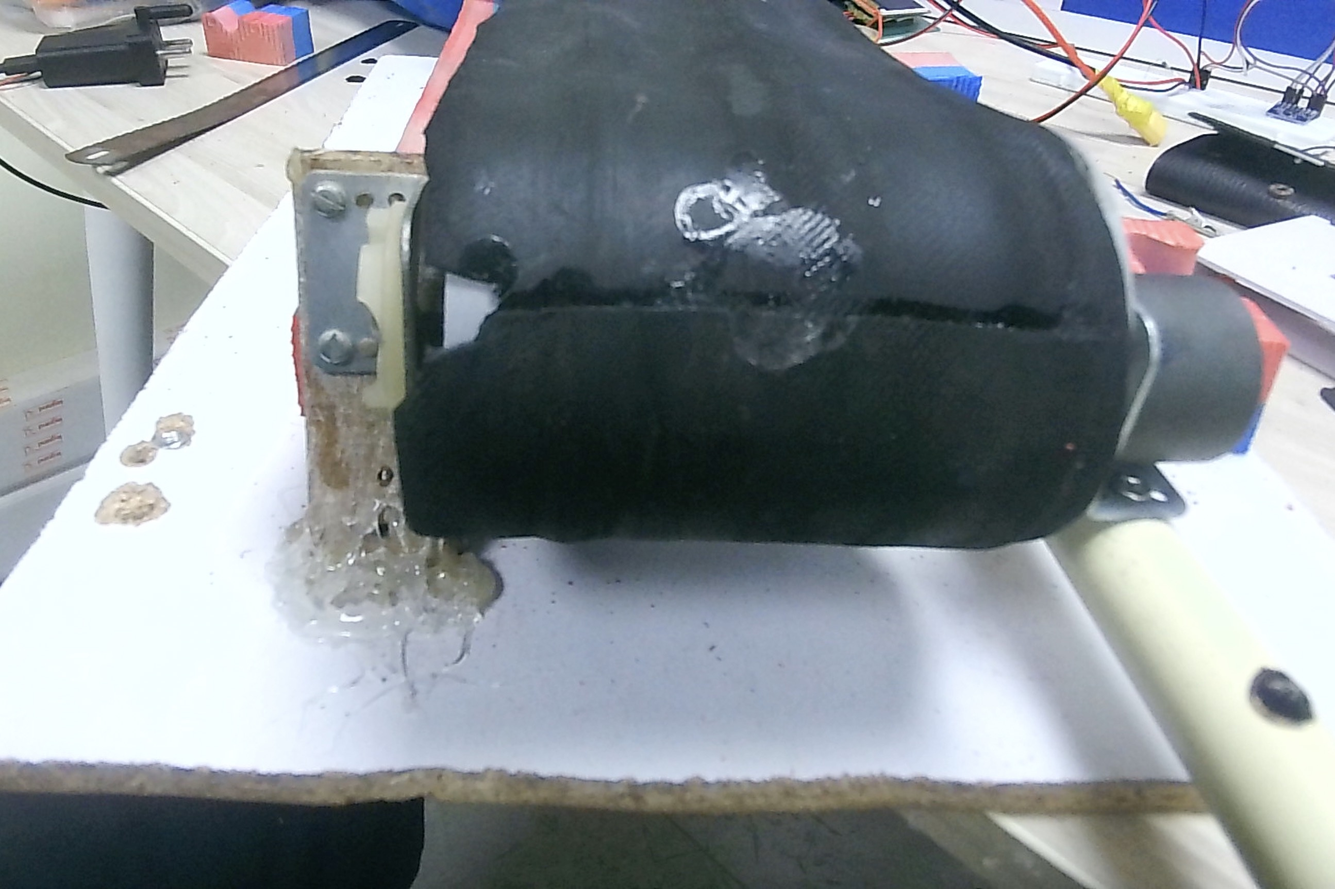joint_damage: (360, 224, 574, 396)
